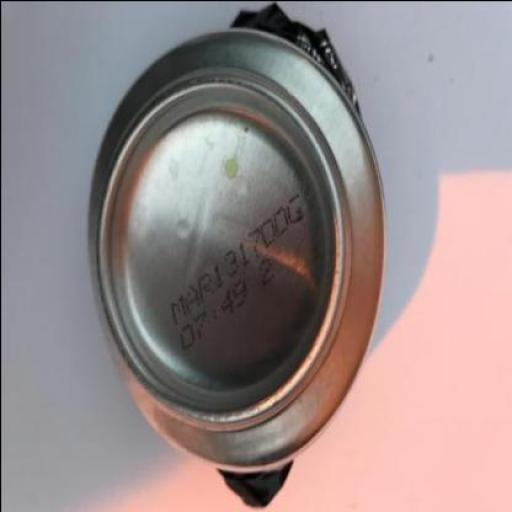metal: (86, 2, 387, 508)
